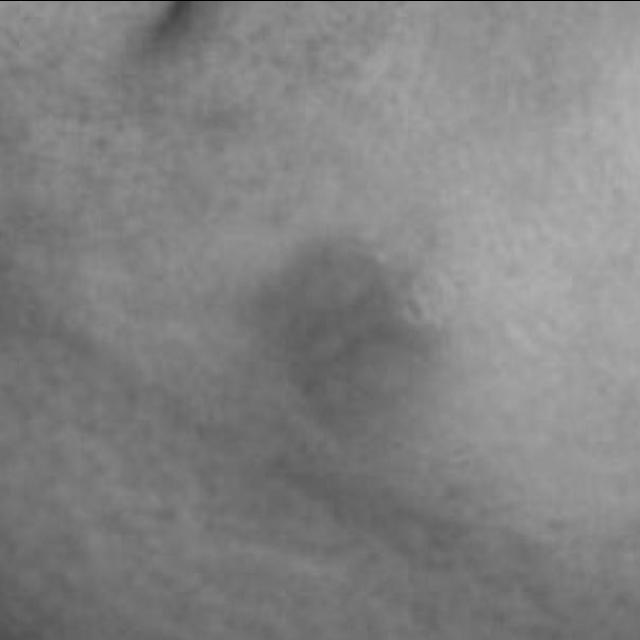nodule: (227, 180, 482, 476)
